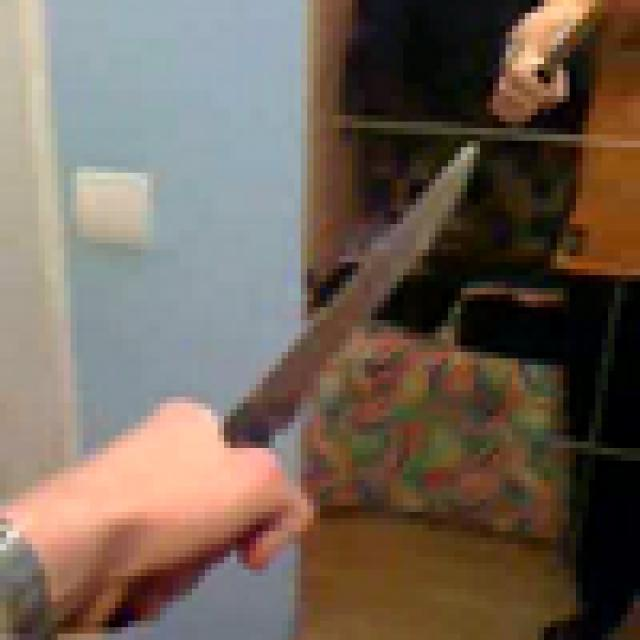knife: (115, 134, 506, 589)
